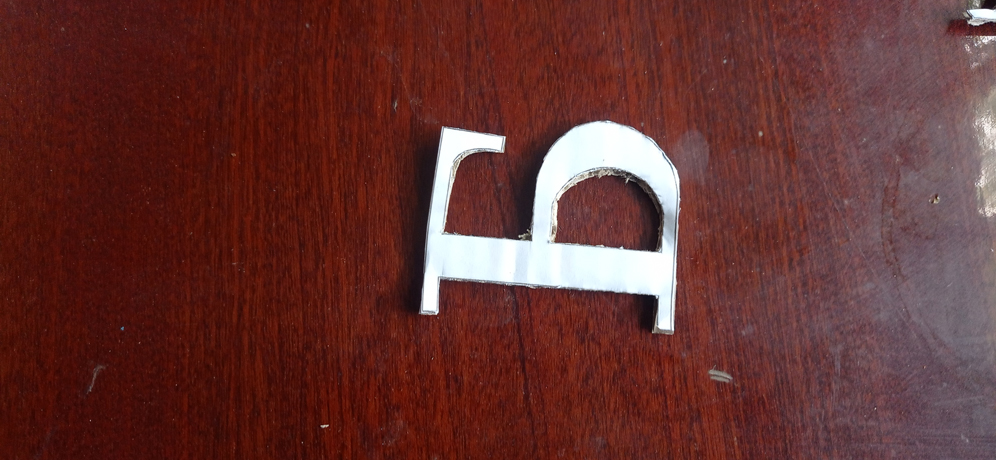b: (417, 121, 682, 335)
